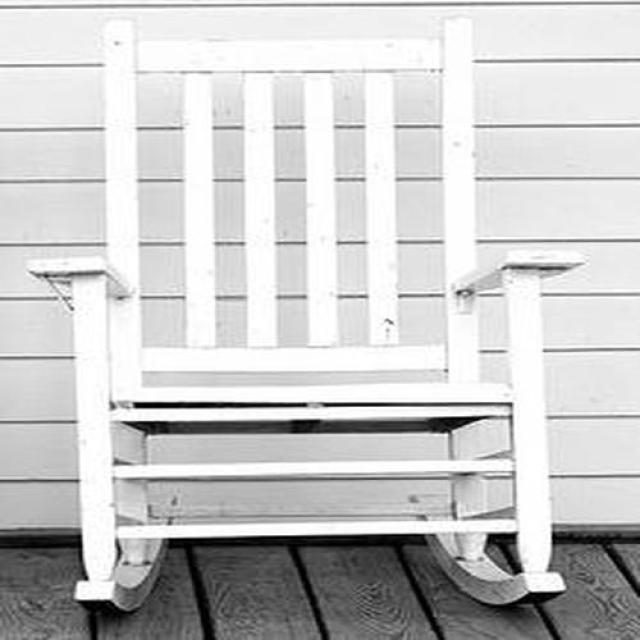chair: (27, 6, 588, 614)
